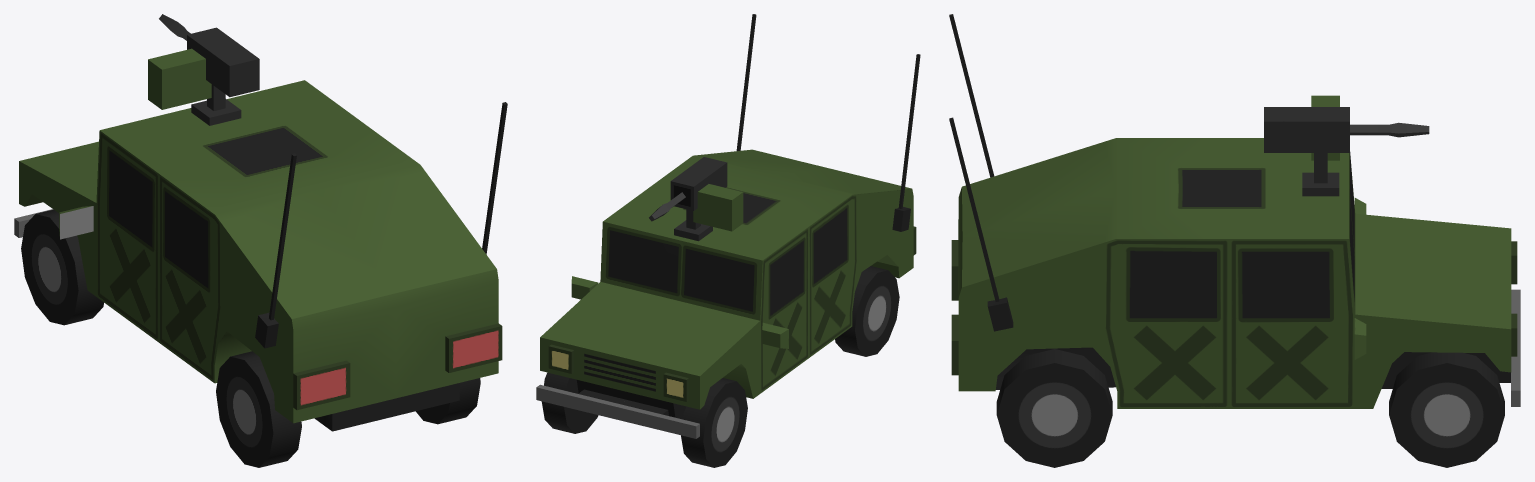
File: ArmoredVehicle.fbx
The picture shows the model from 3 angles, left to right: view 1: azimuth 30°, elevation 25°; view 2: azimuth 150°, elevation 25°; view 3: azimuth 270°, elevation 25°; orthographic projection. The views are drawn at different scales.
Visible parts, largest first — view 1: Armored Vehicle; view 2: Armored Vehicle; view 3: Armored Vehicle.
Boxes of the visible parts, x1,y1,x2,y2 form: Armored Vehicle: (14,14,507,467); Armored Vehicle: (536,14,920,467); Armored Vehicle: (949,14,1520,467).
Bounding box in the file's own units: 1464 × 1748 × 2583.
